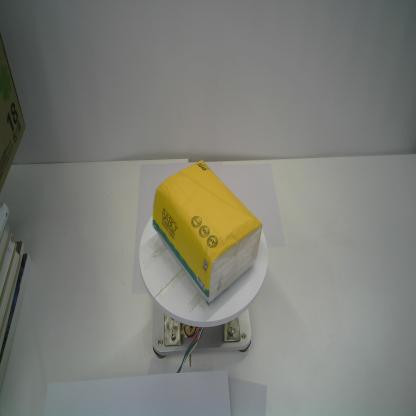Tissue: (150, 159, 264, 308)
